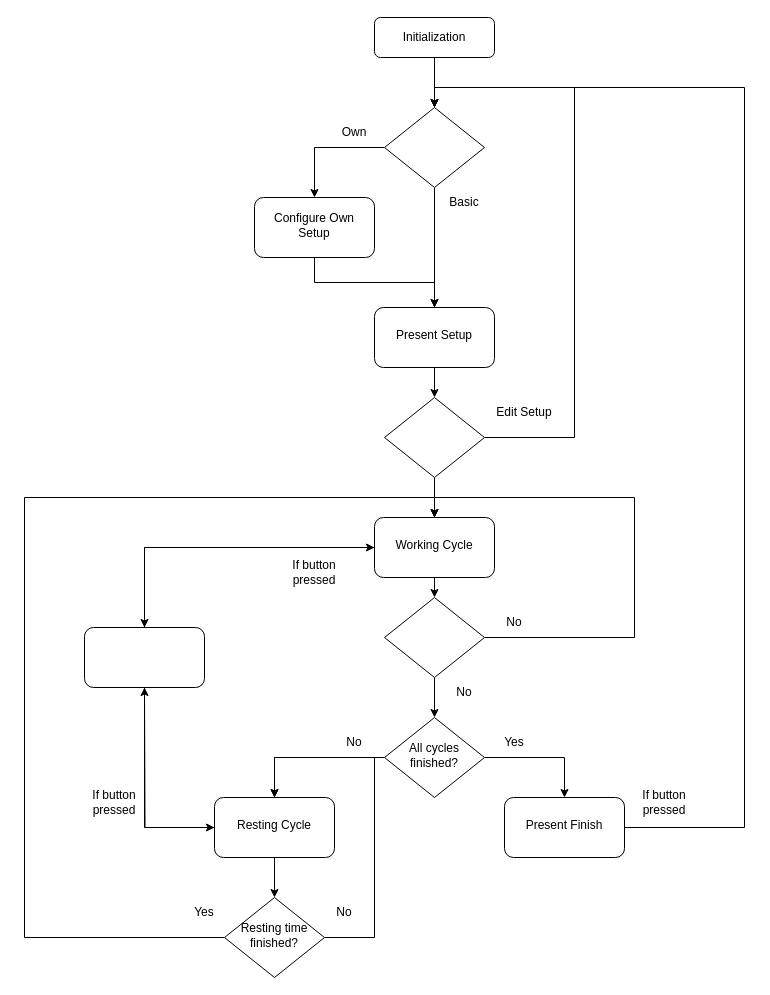
Image size: 770x995. Some labels were removed from this diagram. Here are the shapes that lost their labels. From the top down, the centre of each, then its label:
point (434, 147): Choose Setup
point (434, 437): Choose option
point (144, 657): Pause
point (434, 637): Working time finished?
